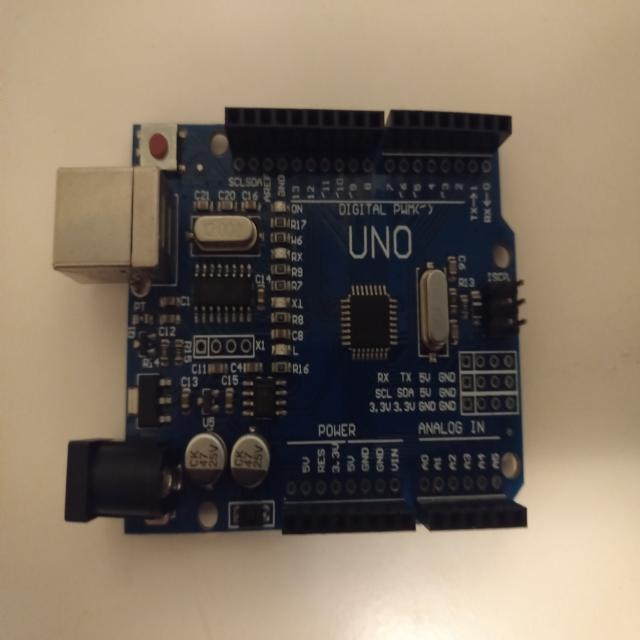arduino: (42, 99, 544, 560)
